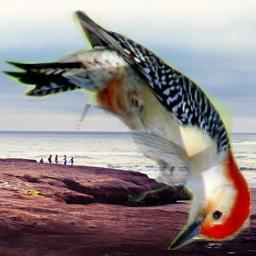Woodpecker: (1, 9, 251, 250)
